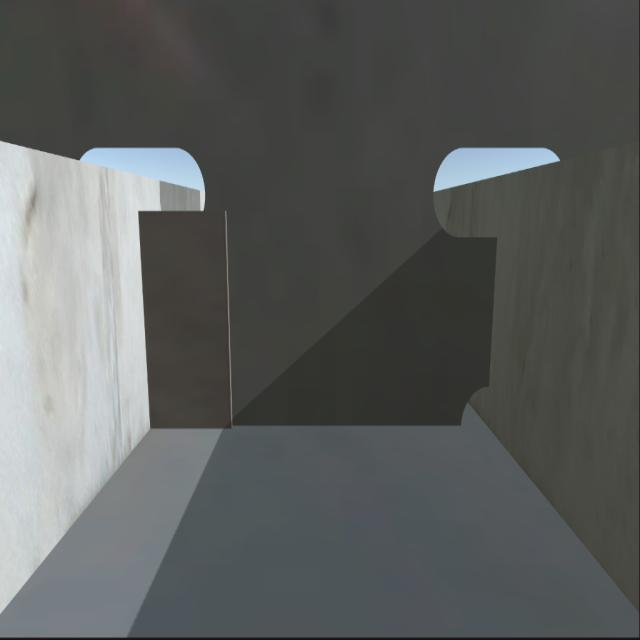fillet_hole: (458, 382, 492, 426)
fillet_yong_jeop_jang: (150, 416, 462, 432)
longi_yong_jeop_jang: (138, 210, 150, 431), (485, 240, 496, 379)
plate_CP01: (143, 205, 227, 427)
